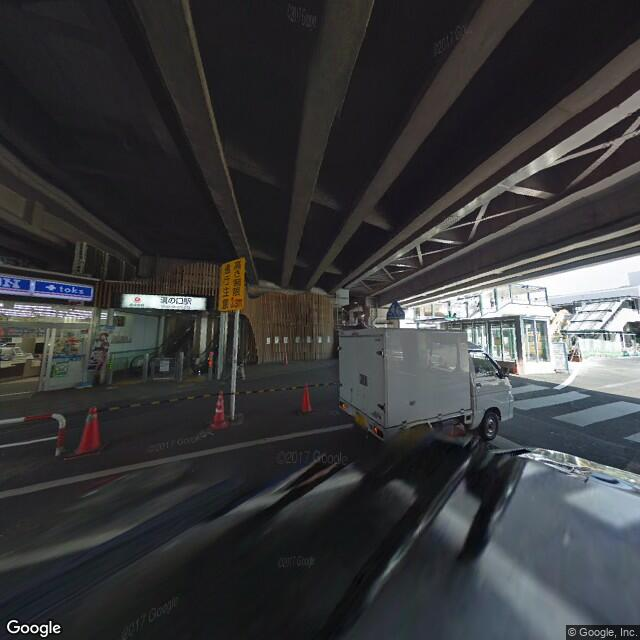lawson: (1, 271, 91, 304)
